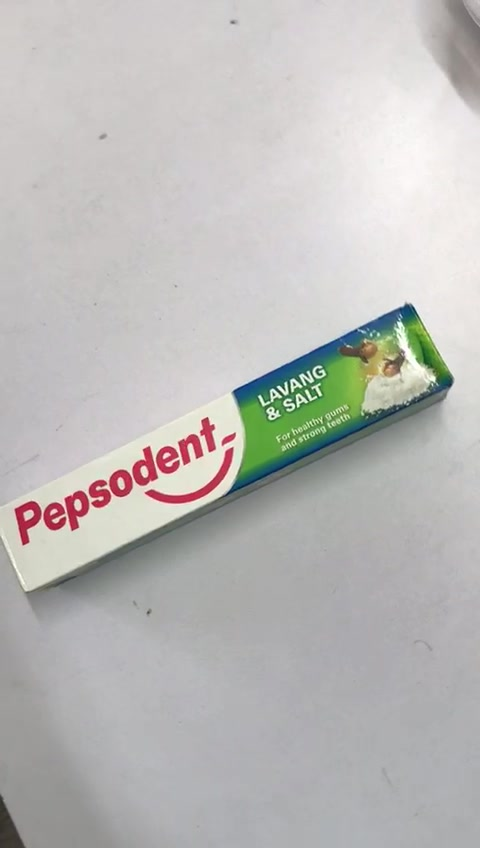pepsodent: (1, 301, 454, 593)
